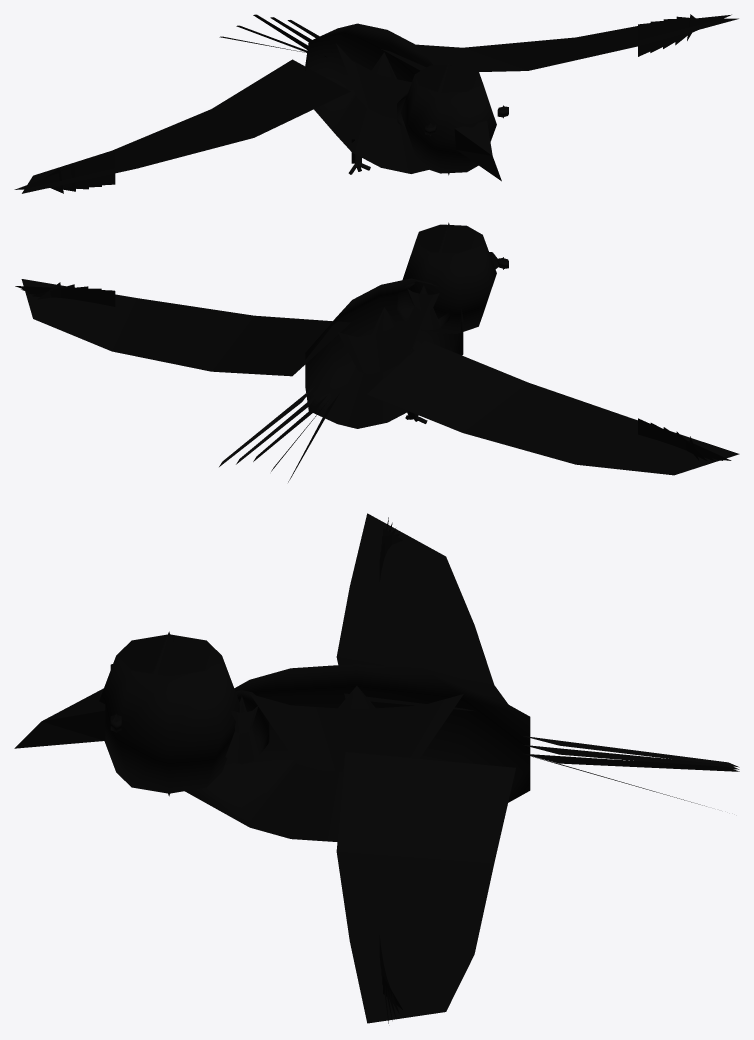
File: gliding_07.glb
The picture shows the model from 3 angles, top to bottom: view 1: azimuth 30°, elevation 25°; view 2: azimuth 150°, elevation 25°; view 3: azimuth 270°, elevation 25°; orthographic projection. The views are drawn at different scales.
Visible parts, largest first — view 1: RaptorBody; view 2: RaptorBody; view 3: RaptorBody.
Part boxes in pixels (left/top/right/bottom): RaptorBody: left=14, top=14, right=738, bottom=193; RaptorBody: left=15, top=222, right=739, bottom=482; RaptorBody: left=14, top=513, right=739, bottom=1023.
Bounding box in the file's own units: 1.99 × 0.3983 × 1.19.
7 materials, 7 textured.
